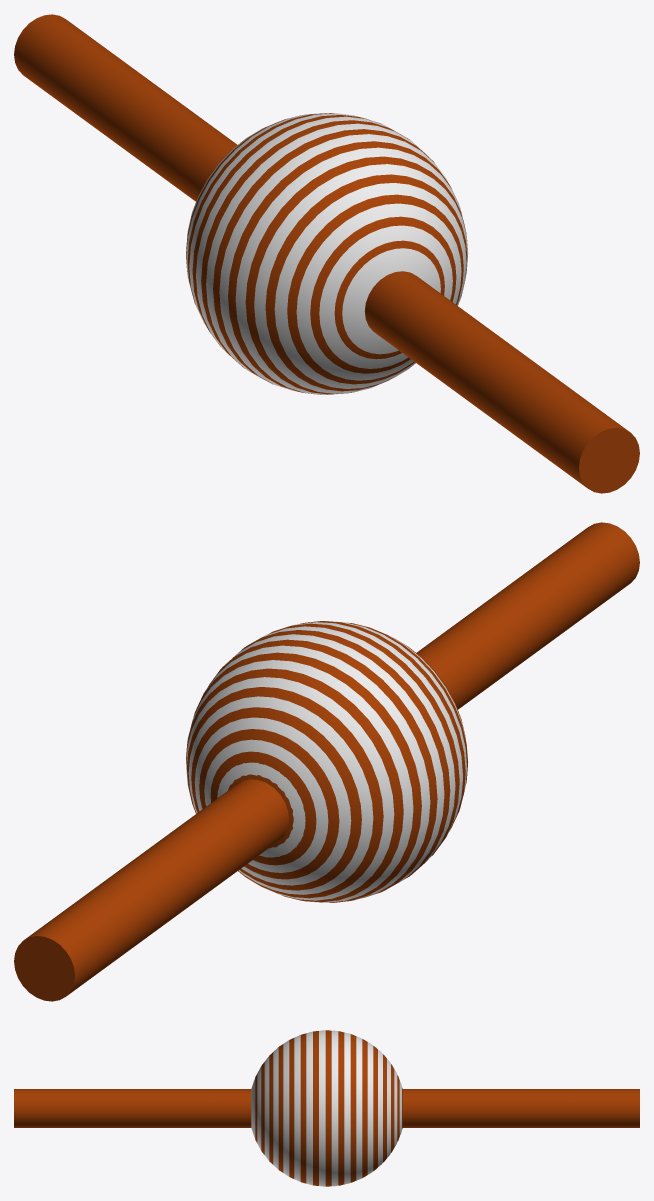
The model's file is 25shaft100ball.glb.
The picture shows the model from 3 angles, top to bottom: view 1: azimuth 30°, elevation 25°; view 2: azimuth 150°, elevation 25°; view 3: azimuth 270°, elevation 25°; orthographic projection. The views are drawn at different scales.
Visible parts, largest first — view 1: Body7, Body10, Body11, Body9; view 2: Body7, Body10, Body9, Body11; view 3: Body7, Body10, Body9, Body11.
Part boxes in pixels (x1=…): Body7: x1=186, y1=113, x2=468, y2=394; Body10: x1=186, y1=113, x2=467, y2=394; Body11: x1=364, y1=271, x2=639, y2=493; Body9: x1=14, y1=14, x2=237, y2=201; Body7: x1=186, y1=621, x2=468, y2=902; Body10: x1=186, y1=621, x2=467, y2=902; Body9: x1=14, y1=779, x2=289, y2=1001; Body11: x1=416, y1=522, x2=639, y2=709; Body7: x1=251, y1=1030, x2=401, y2=1186; Body10: x1=255, y1=1030, x2=402, y2=1186; Body9: x1=402, y1=1089, x2=639, y2=1127; Body11: x1=14, y1=1089, x2=251, y2=1127.
Bounding box in the file's own units: 0.1 × 0.0997 × 0.4.
